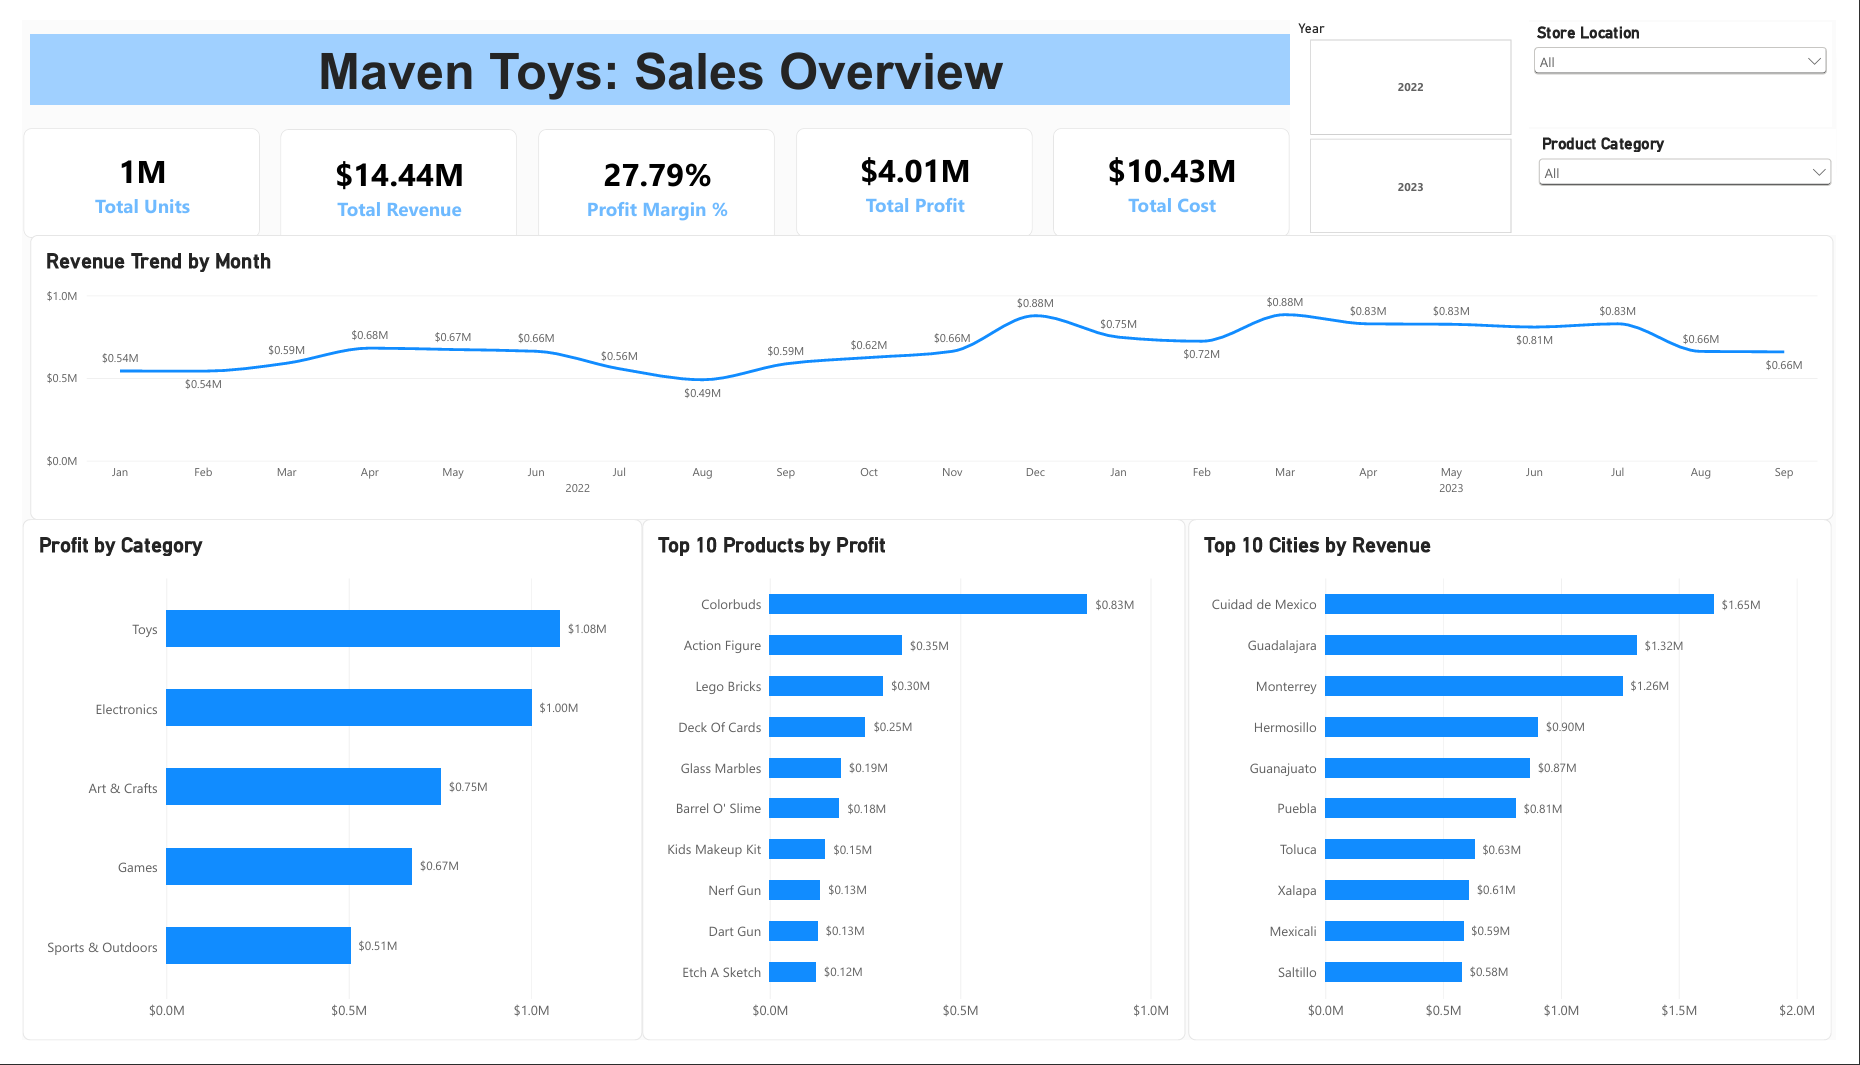

The page's visual inventory and layout, read from the dashboard file:
{"tool":"powerbi","page":{"name":"Overview","canvas":[1920,1080],"ordinal":0},"visuals":[{"type":"cardVisual","fields":{"Data":["_Measures.Total Units"]},"box":[1.4,114.3,250,115.7],"z":0},{"type":"cardVisual","fields":{"Data":["_Measures.Total Revenue"]},"box":[273.4,114.7,250,120],"z":1000},{"type":"cardVisual","fields":{"Data":["_Measures.Profit Margin %"]},"box":[545.9,114.7,250,120],"z":2000},{"type":"cardVisual","fields":{"Data":["_Measures.Total Profit"]},"box":[818.6,114.3,250,114.3],"z":3000},{"type":"cardVisual","fields":{"Data":["_Measures.Total Cost"]},"box":[1091.4,114.3,250,114.3],"z":4000},{"type":"lineChart","title":"Revenue Trend by Month","fields":{"Category":["calendar.Year","calendar.Month Name"],"Y":["_Measures.Total Revenue"]},"box":[8,226.9,1908.8,301.7],"z":5000},{"type":"clusteredBarChart","title":"Profit by Category","fields":{"Category":["products.Product_Category"],"Y":["_Measures.Total Profit"]},"box":[0,528.1,655.7,551.9],"z":6000},{"type":"clusteredBarChart","title":"Top 10 Products by Profit","fields":{"Category":["products.Product_Name"],"Y":["_Measures.Total Profit"]},"box":[655.7,528.1,575.7,551.9],"z":7000},{"type":"clusteredBarChart","title":"Top 10 Cities by Revenue","fields":{"Category":["stores.Store_City"],"Y":["_Measures.Total Revenue"]},"box":[1233.6,528.1,681.7,551.9],"z":8000},{"type":"slicer","fields":{"Values":["products.Product_Category"]},"box":[1595,114.7,324.6,112.5],"z":9000},{"type":"slicer","fields":{"Values":["stores.Store_Location"]},"box":[1595,2.2,320.3,110.4],"z":11000},{"type":"textbox","box":[7.5,15,1335,75],"z":12000},{"type":"slicer","fields":{"Values":["calendar.Year"]},"box":[1341.8,0,253.2,227.2],"z":12001}]}

Visuals, with their boxes in screenshot pixels (x1, y1, x2, y2), scaled from the page's 1920x1080 canvas onto the 1860x1065 screenshot:
cardVisual - _Measures.Total Units: (x1=1, y1=113, x2=244, y2=227)
cardVisual - _Measures.Total Revenue: (x1=265, y1=113, x2=507, y2=231)
cardVisual - _Measures.Profit Margin %: (x1=529, y1=113, x2=771, y2=231)
cardVisual - _Measures.Total Profit: (x1=793, y1=113, x2=1035, y2=225)
cardVisual - _Measures.Total Cost: (x1=1057, y1=113, x2=1299, y2=225)
"Revenue Trend by Month" lineChart: (x1=8, y1=224, x2=1857, y2=521)
"Profit by Category" clusteredBarChart: (x1=0, y1=521, x2=635, y2=1064)
"Top 10 Products by Profit" clusteredBarChart: (x1=635, y1=521, x2=1193, y2=1064)
"Top 10 Cities by Revenue" clusteredBarChart: (x1=1195, y1=521, x2=1855, y2=1064)
slicer - products.Product_Category: (x1=1545, y1=113, x2=1859, y2=224)
slicer - stores.Store_Location: (x1=1545, y1=2, x2=1855, y2=111)
textbox: (x1=7, y1=15, x2=1301, y2=89)
slicer - calendar.Year: (x1=1300, y1=0, x2=1545, y2=224)
